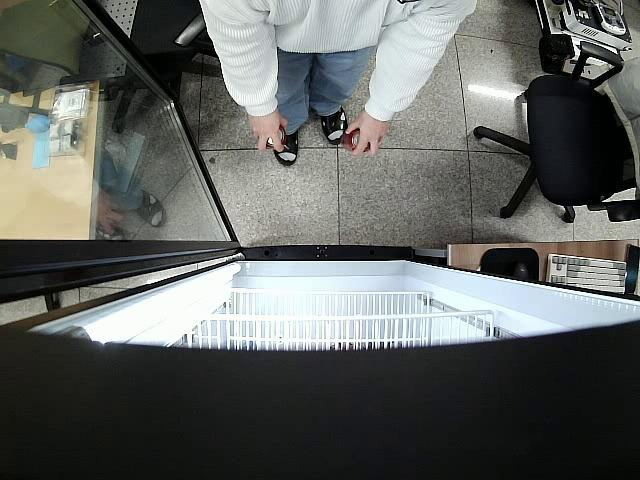11_cocaColaZero: (340, 126, 370, 153), (266, 125, 286, 148)
